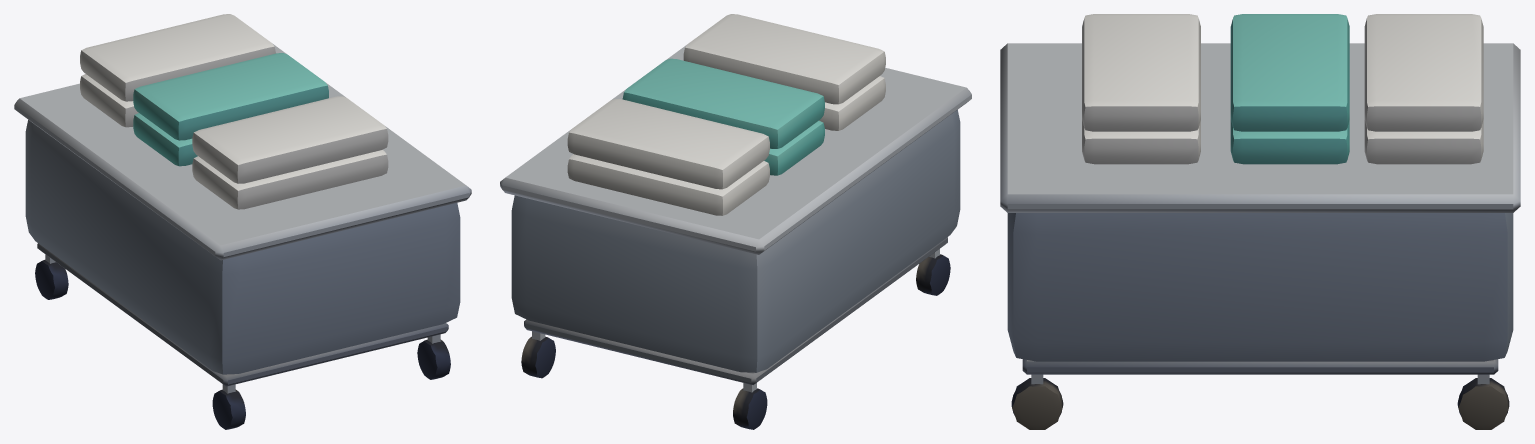
File: LaundryCart.fbx
The picture shows the model from 3 angles, left to right: view 1: azimuth 30°, elevation 25°; view 2: azimuth 150°, elevation 25°; view 3: azimuth 270°, elevation 25°; orthographic projection. The views are drawn at different scales.
Visible parts, largest first — view 1: SM_Prop_LaundryCart; view 2: SM_Prop_LaundryCart; view 3: SM_Prop_LaundryCart.
Boxes of the visible parts, x1,y1,x2,y2 form: SM_Prop_LaundryCart: [14, 14, 471, 429]; SM_Prop_LaundryCart: [500, 14, 971, 429]; SM_Prop_LaundryCart: [1000, 14, 1520, 429].
Bounding box in the file's own units: 2.5 × 2.27 × 3.5.
